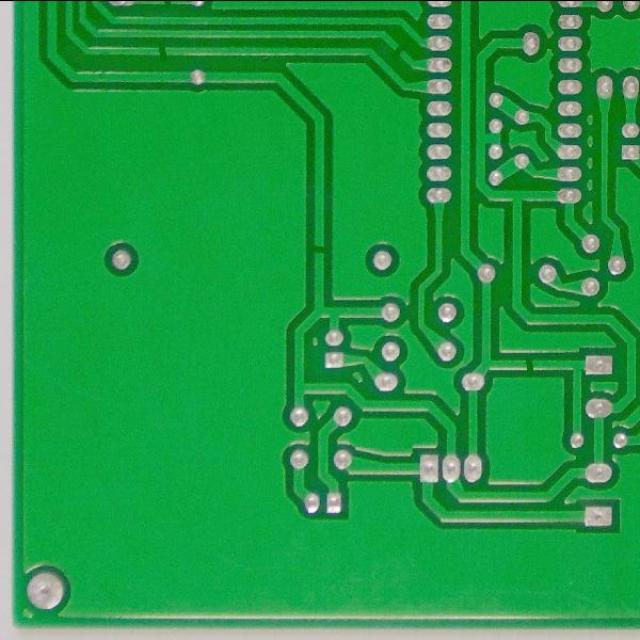Open_Circuit: (518, 350, 543, 377), (149, 38, 176, 62), (308, 237, 331, 264), (388, 38, 411, 61)
